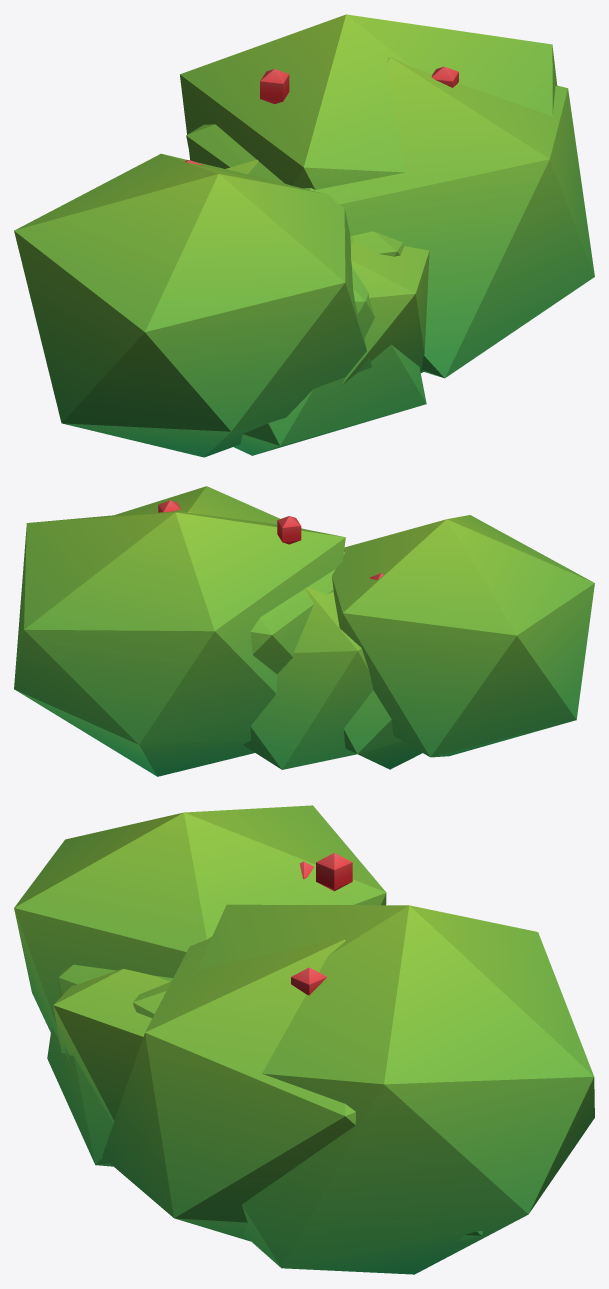
Rendered from bush_b.glb.
3 views of the same model, one above another, from view 1: azimuth 30°, elevation 25°; view 2: azimuth 150°, elevation 25°; view 3: azimuth 270°, elevation 25° (orthographic). The views are drawn at different scales.
Parts seen in each view (by area): view 1: bush_b; view 2: bush_b; view 3: bush_b.
Part boxes in pixels (bbox=[...]): bush_b: bbox=[14, 14, 594, 457]; bush_b: bbox=[14, 486, 594, 776]; bush_b: bbox=[14, 805, 594, 1274].
Size of the model in its own units: 1.38 by 0.7585 by 1.09.
1 material, 1 textured.
